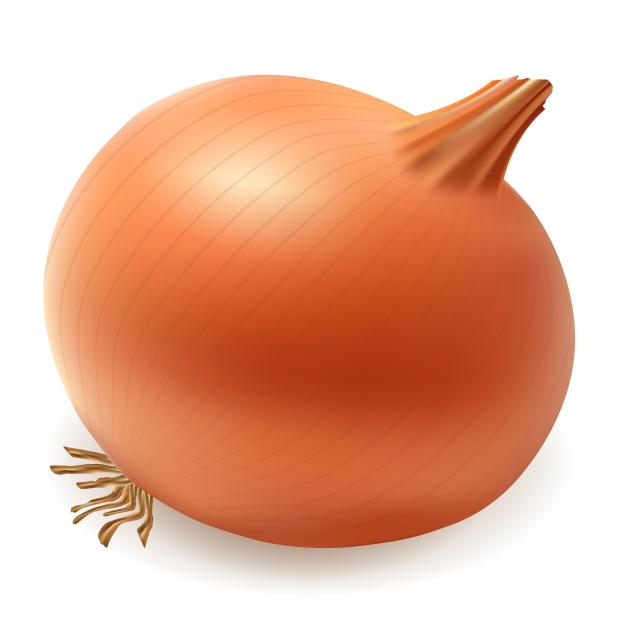Onion: (40, 72, 578, 550)
